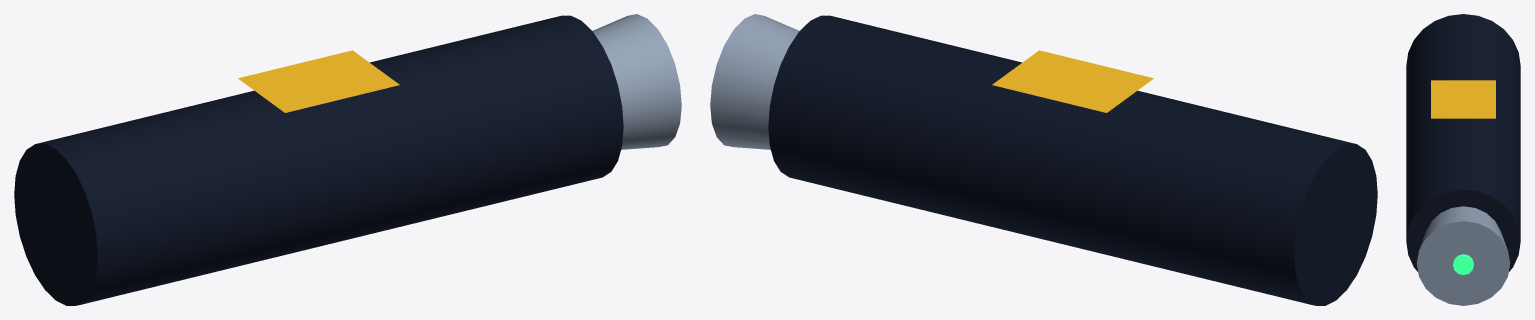
File: laser_source.glb
3 views of the same model, side by side, from view 1: azimuth 30°, elevation 25°; view 2: azimuth 150°, elevation 25°; view 3: azimuth 270°, elevation 25° (orthographic). The views are drawn at different scales.
Parts seen in each view (by area): view 1: Precision_Diode_Laser_532nm; view 2: Precision_Diode_Laser_532nm; view 3: Precision_Diode_Laser_532nm, Laser_Aperture_Emitter.
Boxes of the visible parts, x1=… form: Precision_Diode_Laser_532nm: x1=14, y1=14, x2=681, y2=305; Precision_Diode_Laser_532nm: x1=710, y1=14, x2=1377, y2=305; Precision_Diode_Laser_532nm: x1=1406, y1=14, x2=1520, y2=305; Laser_Aperture_Emitter: x1=1453, y1=254, x2=1473, y2=274.
Size of the model in its own units: 0.182 by 0.045 by 0.044.
